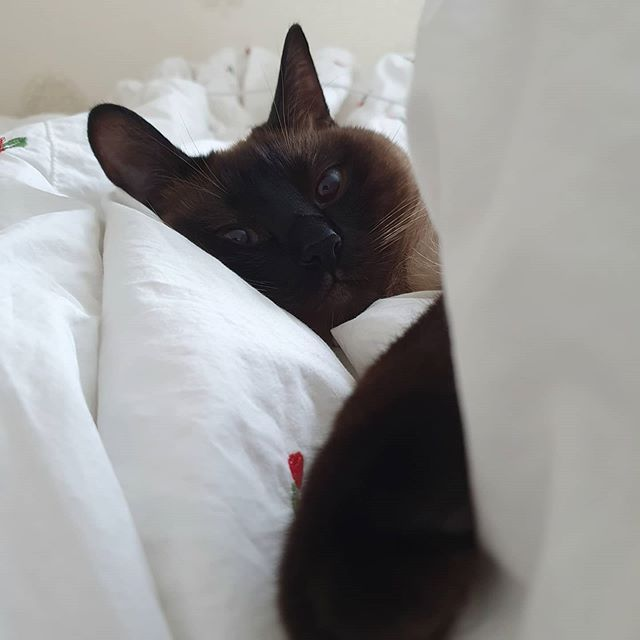cat: (82, 23, 430, 345)
